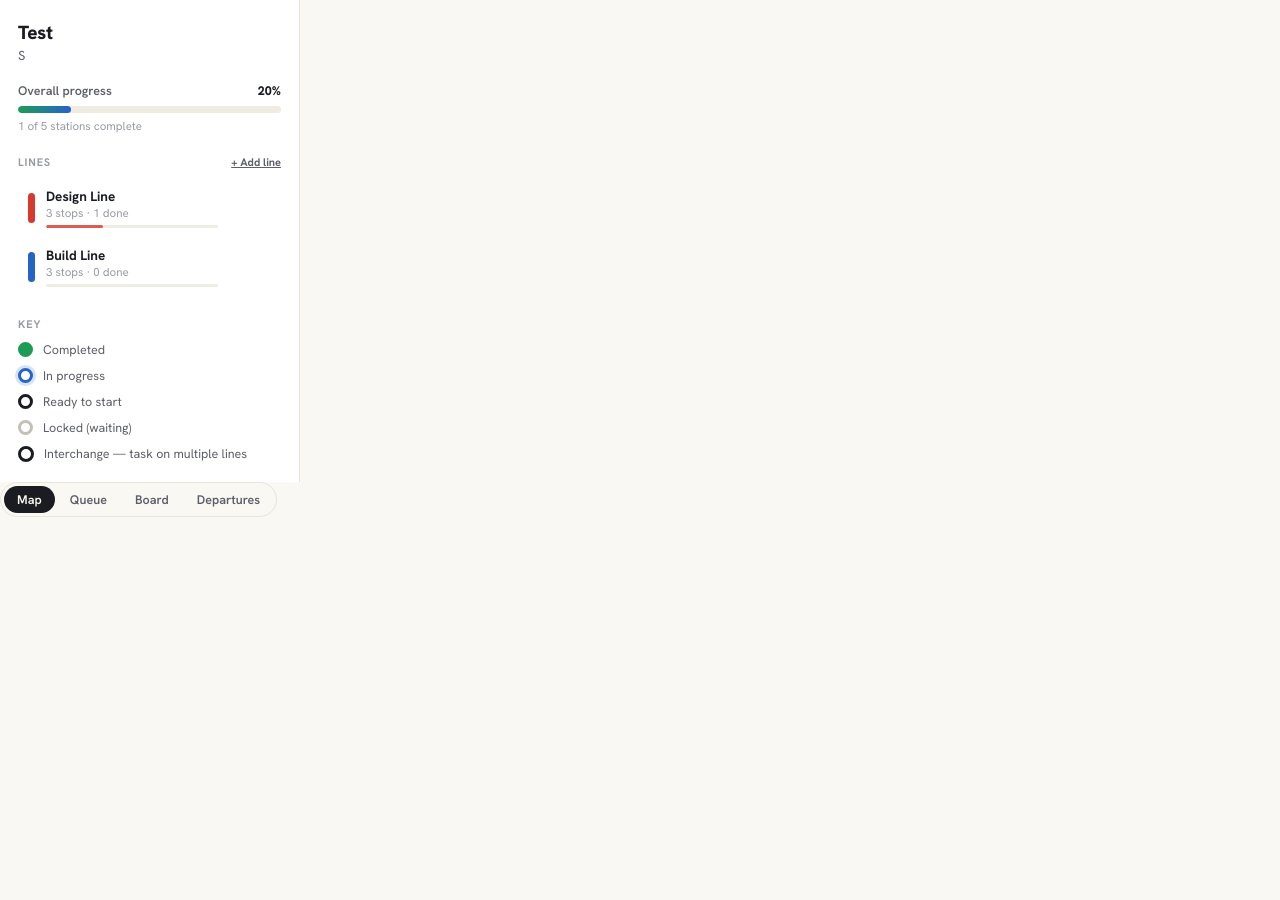
Scenario: line filtering on the boards › collapses Departures to the filtered lane in hide mode, and keeps both in fade
Check: the element with class "lines-list" is shown, box x1=18 y1=179 x2=228 y2=295
What coordinates should you click on to do the following:
click the button "Departures"
I would click on:
 (228, 500)
Its box is x1=184 y1=486 x2=273 y2=513.
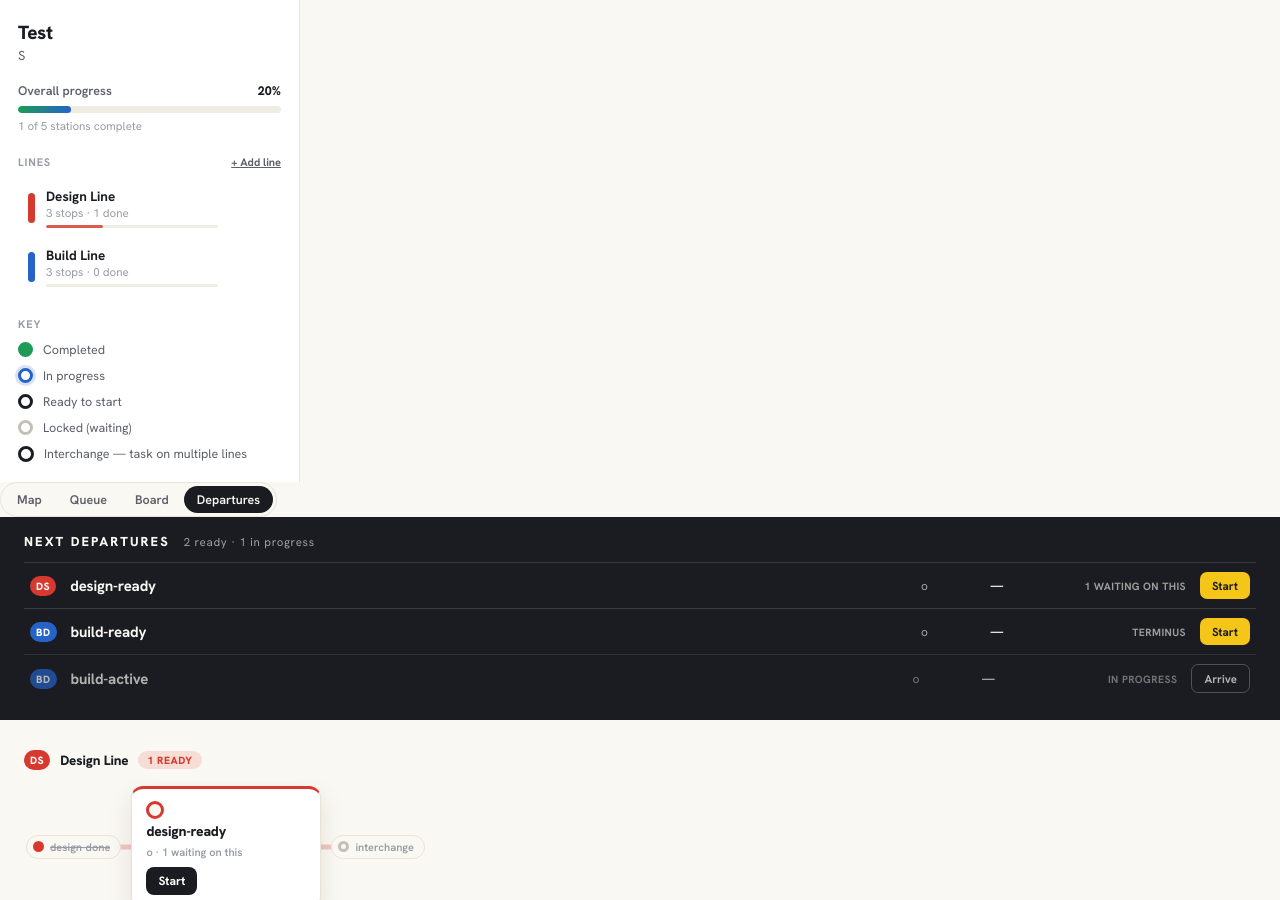
Check: the number of elements with class "lane" is 2
What coordinates should you click on to do the following:
click the button with class "line-row-btn" showing "Design Line 3 stops · 1 done"
I would click on:
 (123, 208)
Its box is x1=18 y1=179 x2=228 y2=236.
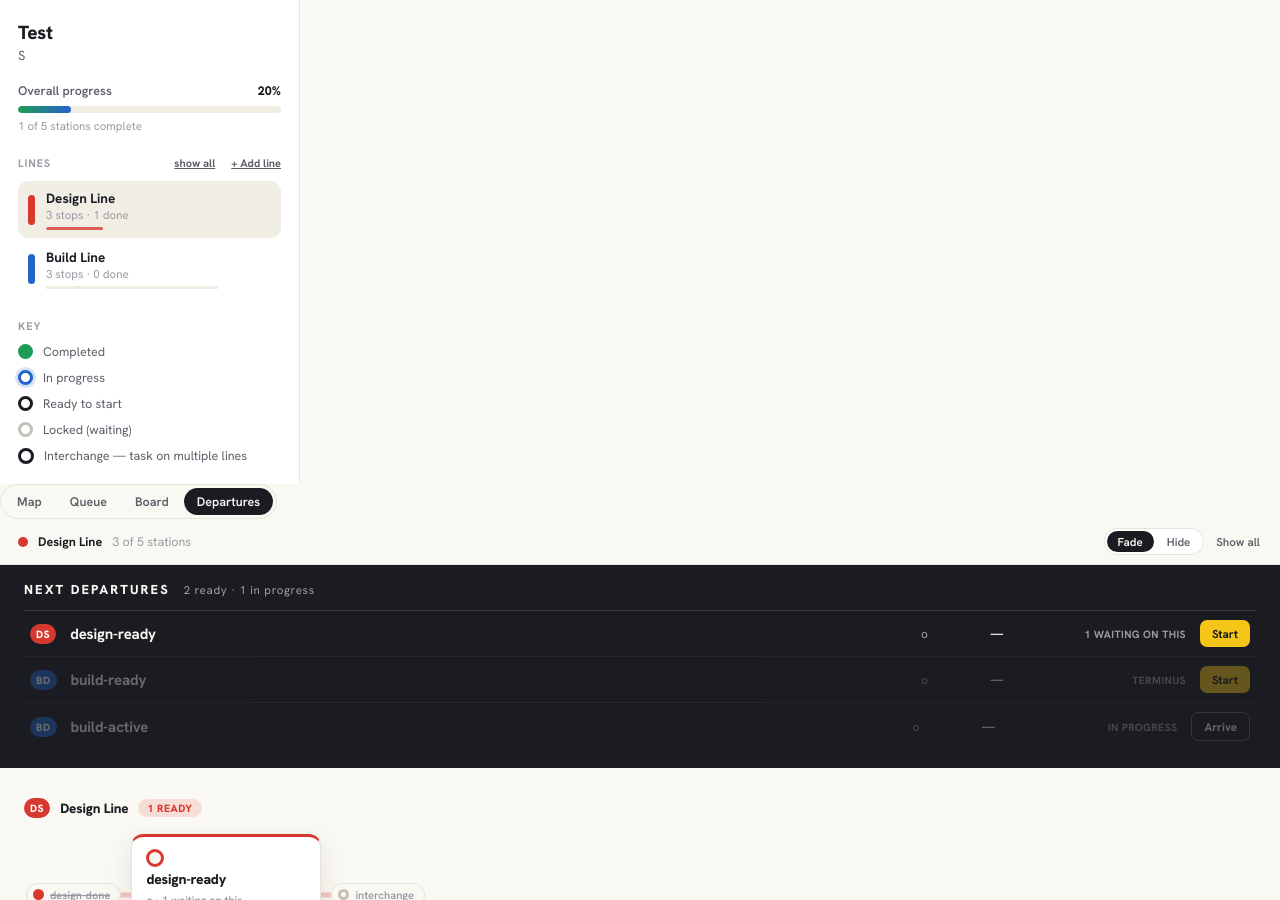
Check: the number of elements with class "lane" is 2
Check: the element with class "filter-bar" is shown, box x1=0 y1=519 x2=1279 y2=565
What coordinates should you click on to do the following:
click the button with class "filter-seg" showing "Hide"
I would click on:
 (1179, 542)
Its box is x1=1156 y1=531 x2=1201 y2=552.
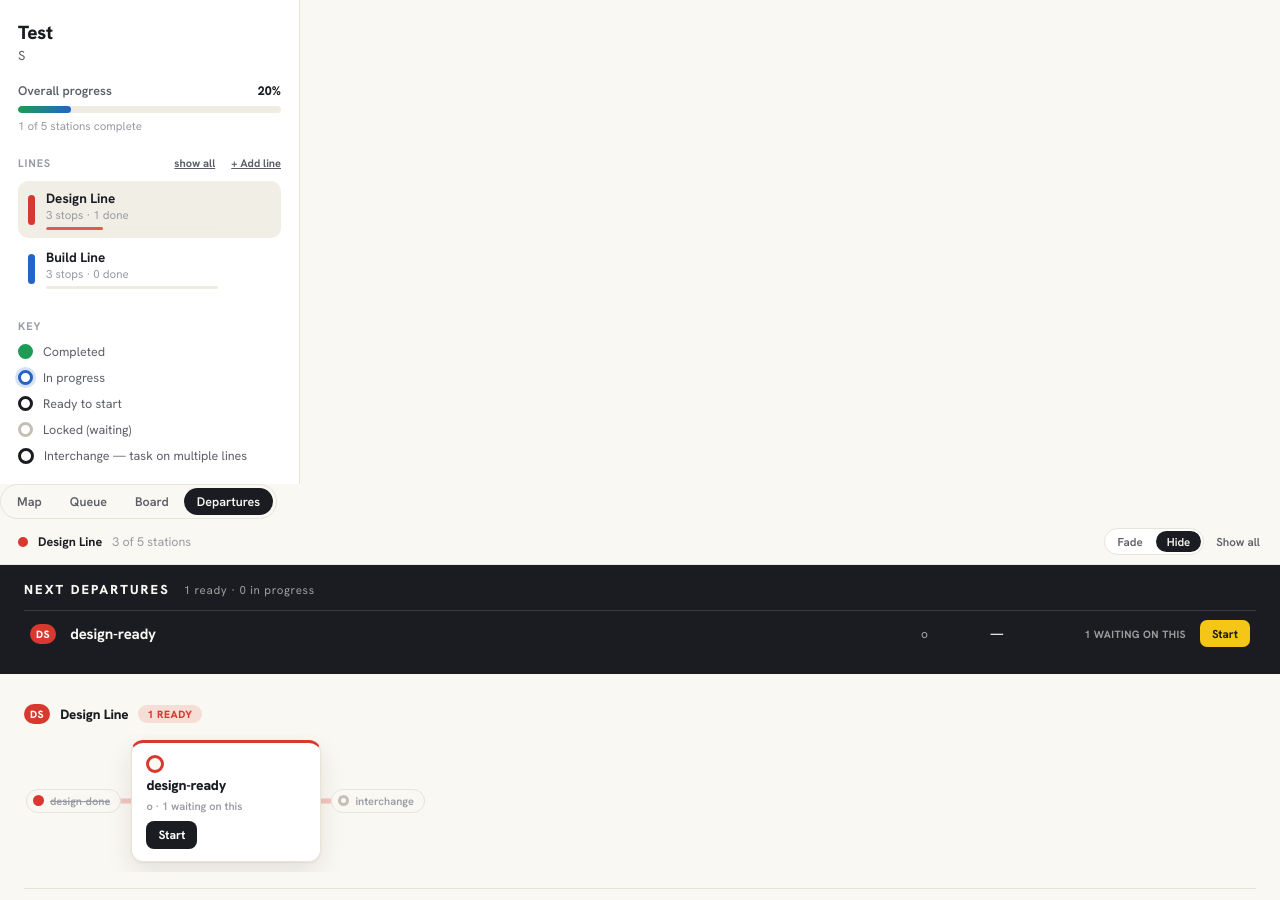
Check: the number of elements with class "lane" is 1, box x1=24 y1=692 x2=1256 y2=888
Check: no list items with class "dim" are shown
